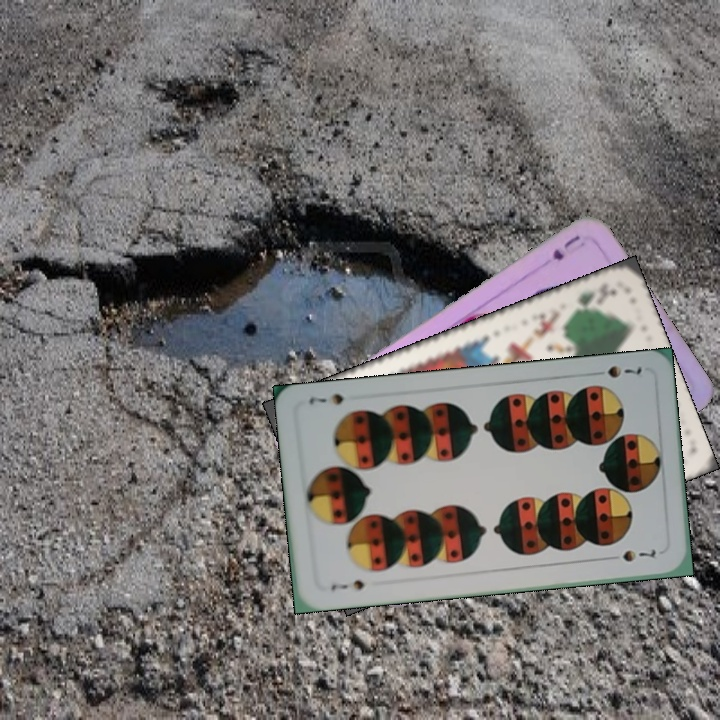GK: (566, 284, 619, 318)
S7: (588, 361, 644, 381), (327, 576, 367, 593)
SU: (548, 231, 588, 263)
